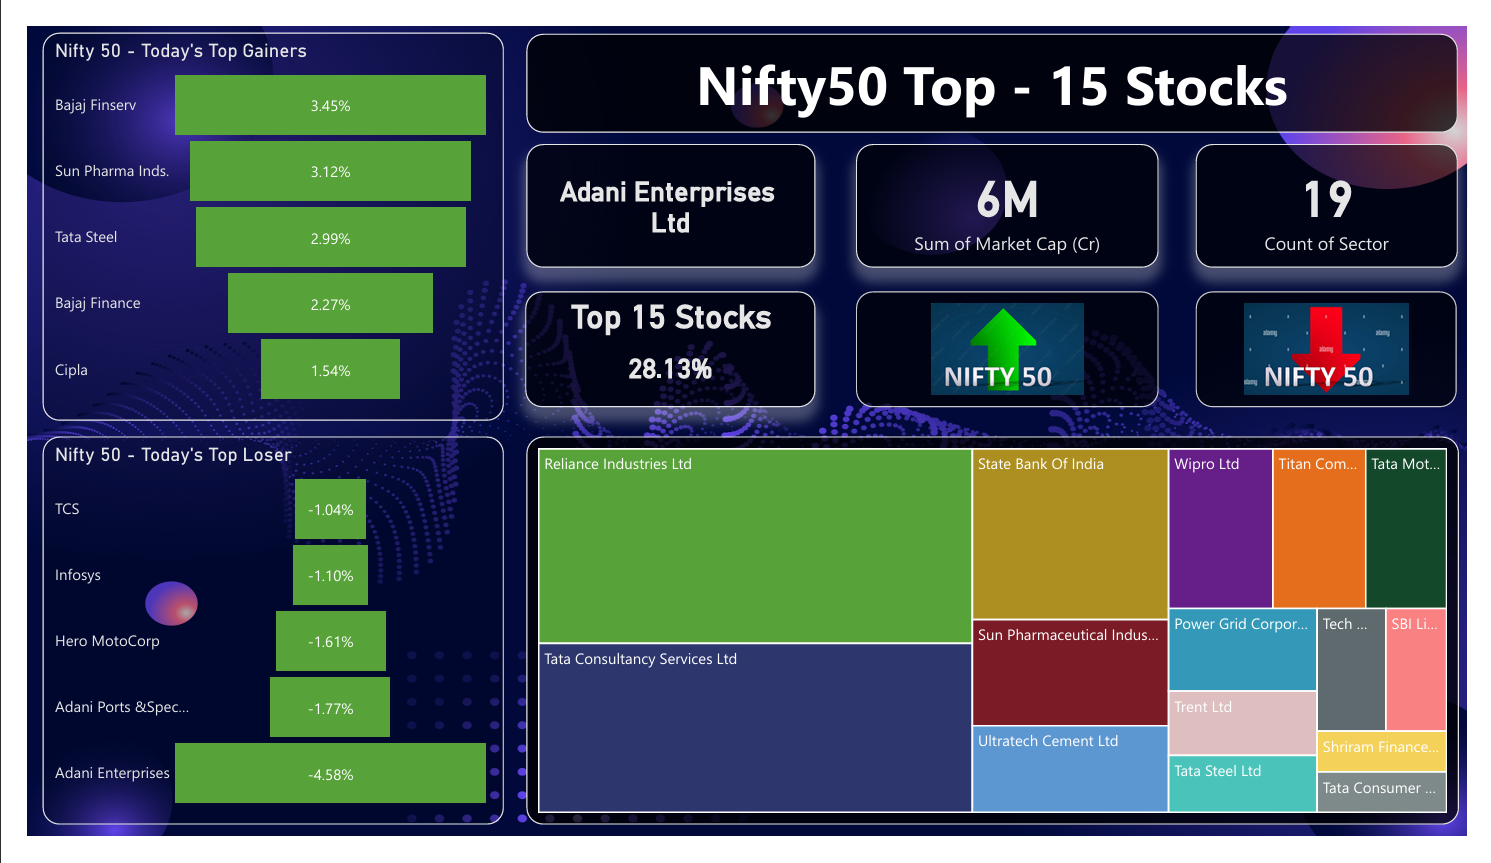

What the dashboard file says about the page in this screenshot:
{"tool":"powerbi","page":{"name":"Page 2","canvas":[1280,720],"ordinal":1},"visuals":[{"type":"card","fields":{"Values":["Count(Table 2.Sector)"]},"box":[1037.7,104.1,233.8,109.8],"z":0},{"type":"card","fields":{"Values":["Sum(Table 1.Market Cap (Cr))"]},"box":[735.5,104.1,269.4,109.8],"z":1000},{"type":"card","fields":{"Values":["Min(Table 1.Company Name)"]},"box":[443.3,104.1,256.6,109.8],"z":2000},{"type":"textbox","box":[443.3,5.7,828.2,88.4],"z":3000},{"type":"funnel","title":"Nifty 50 - Today''s Top Gainers","fields":{"Category":["Nifty 50 - Today's Top Gainers.Company Name"],"Y":["Sum(Nifty 50 - Today's Top Gainers.Price Change(%))"]},"box":[12.5,5,410.1,345.1],"z":4000},{"type":"funnel","title":"Nifty 50 - Today''s Top Loser","fields":{"Category":["Nifty 50 - Today's Top Losers.Company Name"],"Y":["Sum(Nifty 50 - Today's Top Losers.Price Change(%))"]},"box":[12.5,363.8,410.1,345.1],"z":5000},{"type":"treemap","fields":{"Group":["Table 1.Company Name"],"Values":["Sum(Table 1.Market Cap (Cr))"]},"box":[443.2,363.6,828.8,345.8],"z":6000},{"type":"card","title":"Top 15 Stocks","fields":{"Values":["Sum(Table 2.Weightage)"]},"box":[441.9,235.2,258,102.6],"z":7000},{"type":"image","box":[735.9,235.3,269,102.5],"z":8000},{"type":"image","box":[1037.5,235.3,232.8,102.5],"z":9000}]}

Visuals, with their boxes in screenshot pixels (x1, y1, x2, y2), scaled from the page's 1280x720 canvas onto the 1491x863 screenshot:
card - Count(Table 2.Sector): <bbox>1209, 125, 1481, 256</bbox>
card - Sum(Table 1.Market Cap (Cr)): <bbox>857, 125, 1171, 256</bbox>
card - Min(Table 1.Company Name): <bbox>516, 125, 815, 256</bbox>
textbox: <bbox>516, 7, 1481, 113</bbox>
"Nifty 50 - Today''s Top Gainers" funnel: <bbox>15, 6, 492, 420</bbox>
"Nifty 50 - Today''s Top Loser" funnel: <bbox>15, 436, 492, 850</bbox>
treemap - Table 1.Company Name x Sum(Table 1.Market Cap (Cr)): <bbox>516, 436, 1482, 850</bbox>
"Top 15 Stocks" card: <bbox>515, 282, 815, 405</bbox>
image: <bbox>857, 282, 1171, 405</bbox>
image: <bbox>1209, 282, 1480, 405</bbox>
